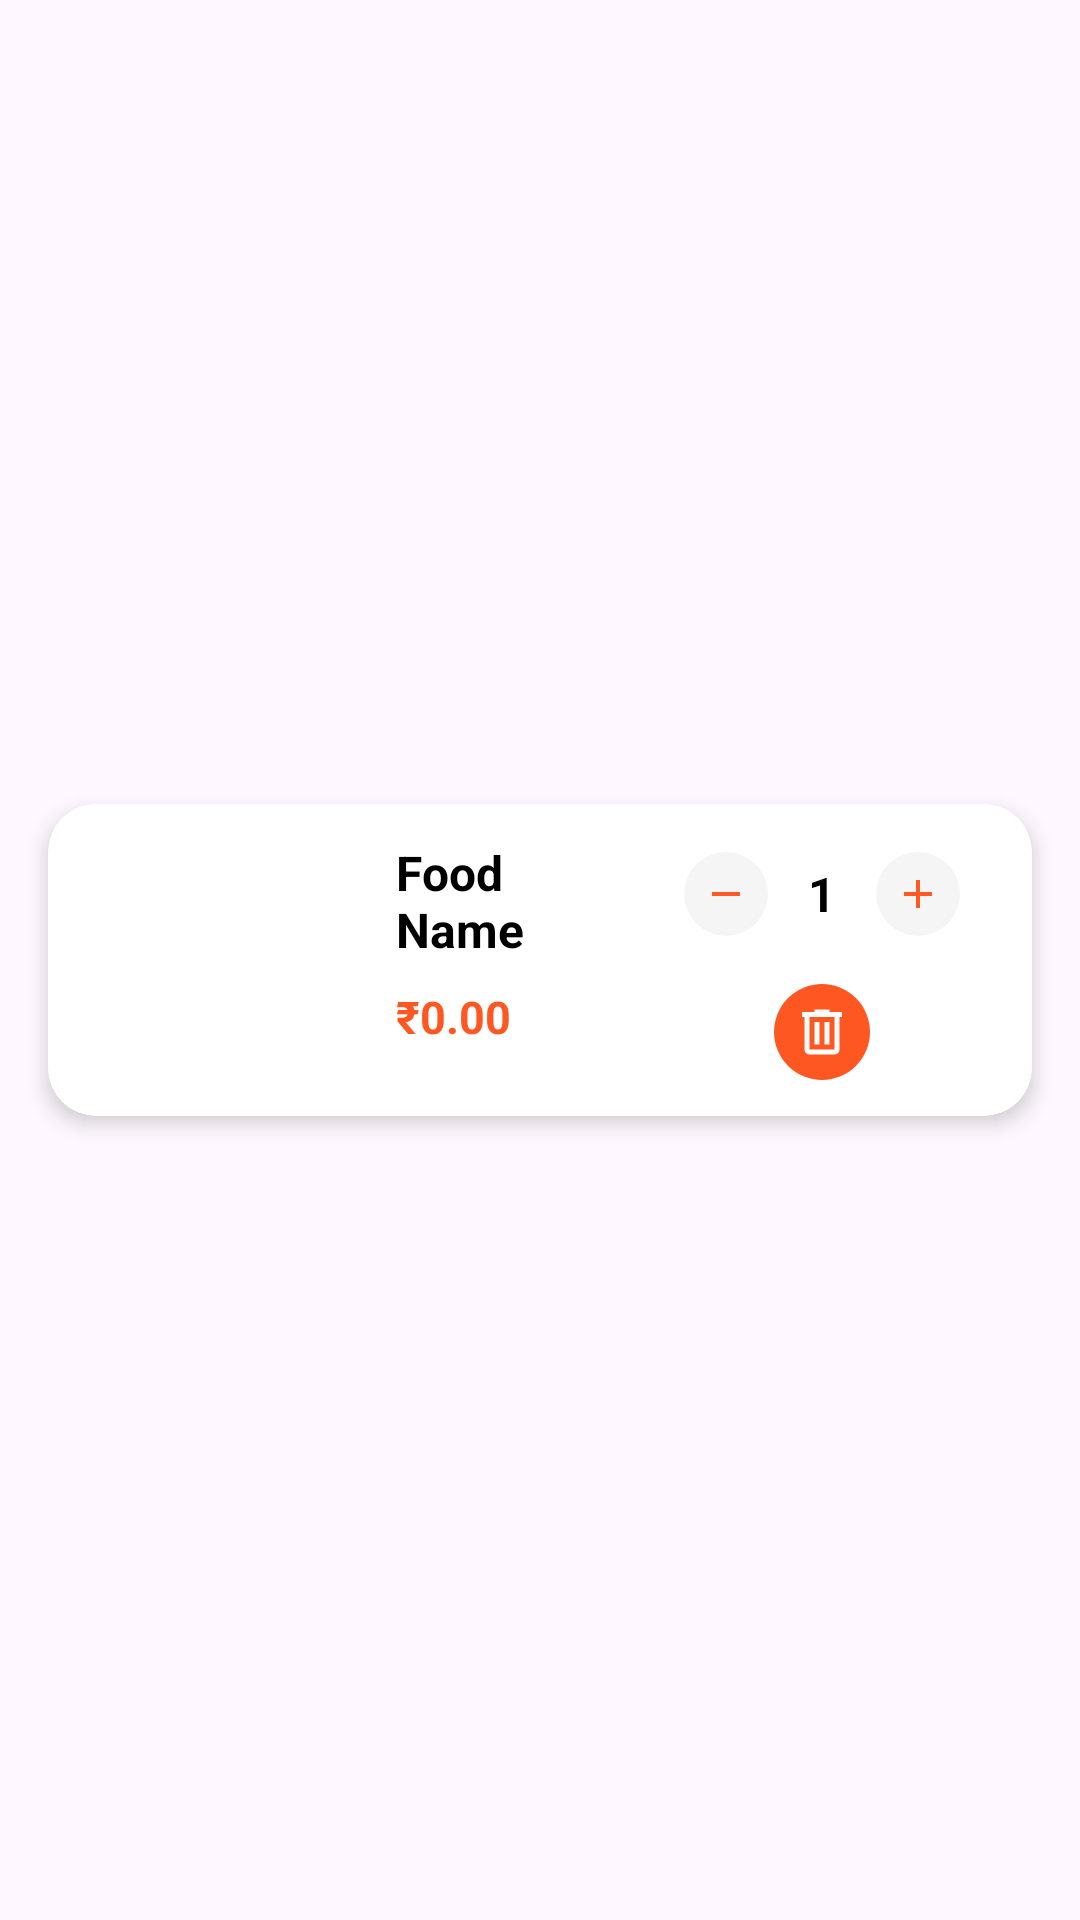

Icon click points for this 1080×1920 phone screenshot, format point (x, y):
Delete item: point (822, 1032)
Increase quantity: point (918, 894)
